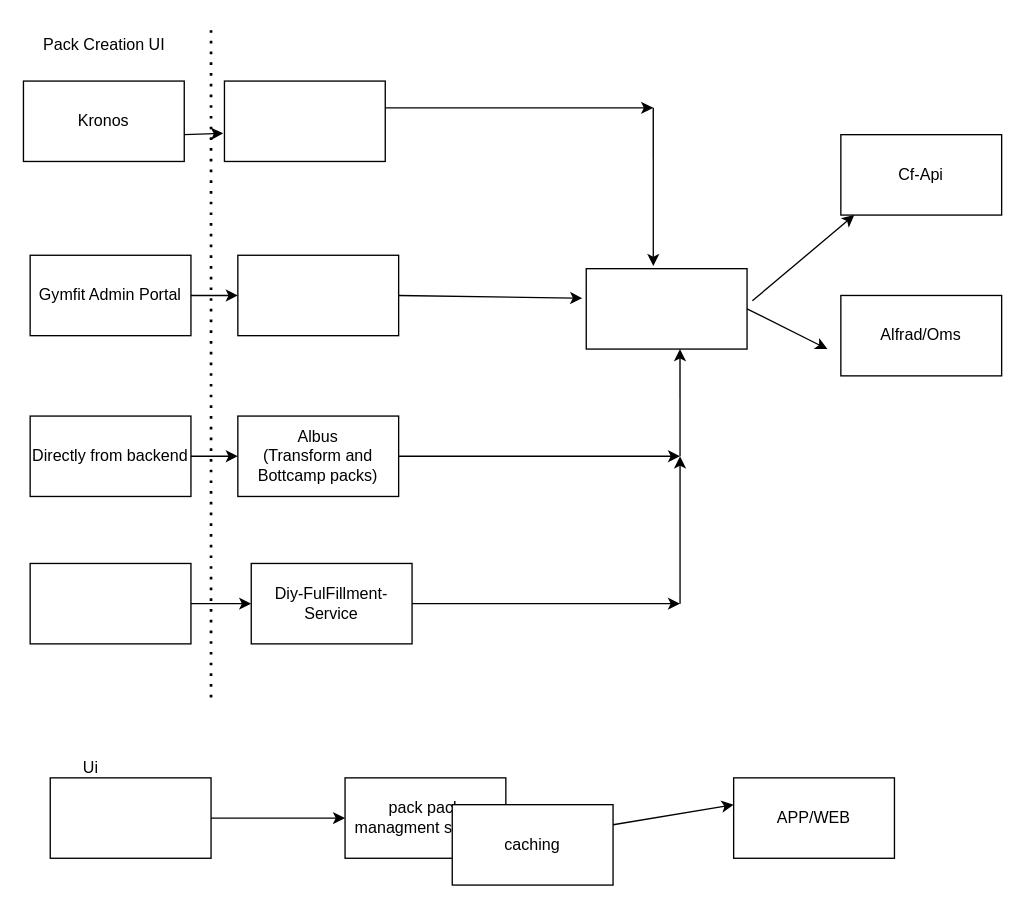
The diagram is 1025 pixels wide and 909 high, and some of its shapes have lost their labels. Here are the shapes that lost their labels. From the top down, the centre of each, then its label:
At pixel 304 120: "Cult-Api (Elite and Play Packs)".
At pixel 318 295: "GymFit (Gym and PT Packs)".
At pixel 666 308: "Catalog Service (Caching Layer)".
At pixel 110 603: "Martha".
At pixel 130 817: "Ops".
